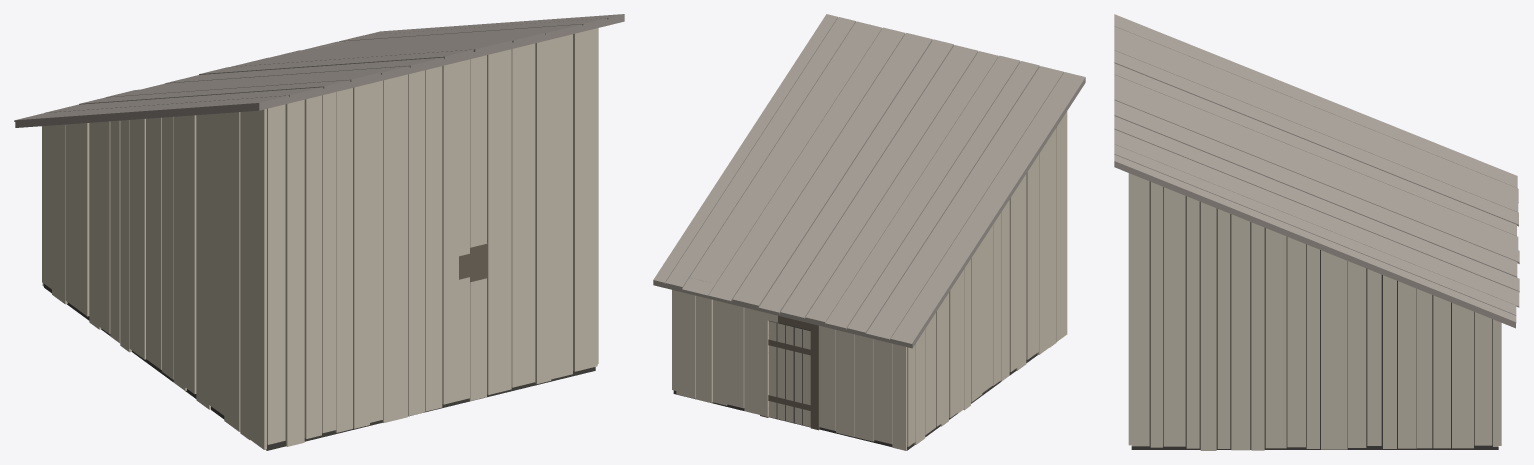
Rendered from recon_1835_north_d2_003__inferred_1835.glb.
3 renders of one model, left to right at view 1: azimuth 30°, elevation 25°; view 2: azimuth 150°, elevation 25°; view 3: azimuth 270°, elevation 25°, orthographic. The views are drawn at different scales.
Visible parts, largest first — view 1: recon_1835_north_d2_003__inferred_1835; view 2: recon_1835_north_d2_003__inferred_1835; view 3: recon_1835_north_d2_003__inferred_1835.
Part boxes in pixels (bbox=[...]): recon_1835_north_d2_003__inferred_1835: bbox=[14, 14, 624, 450]; recon_1835_north_d2_003__inferred_1835: bbox=[653, 14, 1085, 450]; recon_1835_north_d2_003__inferred_1835: bbox=[1114, 14, 1519, 450].
Bounding box in the file's own units: 5.22 × 4.93 × 6.09.
